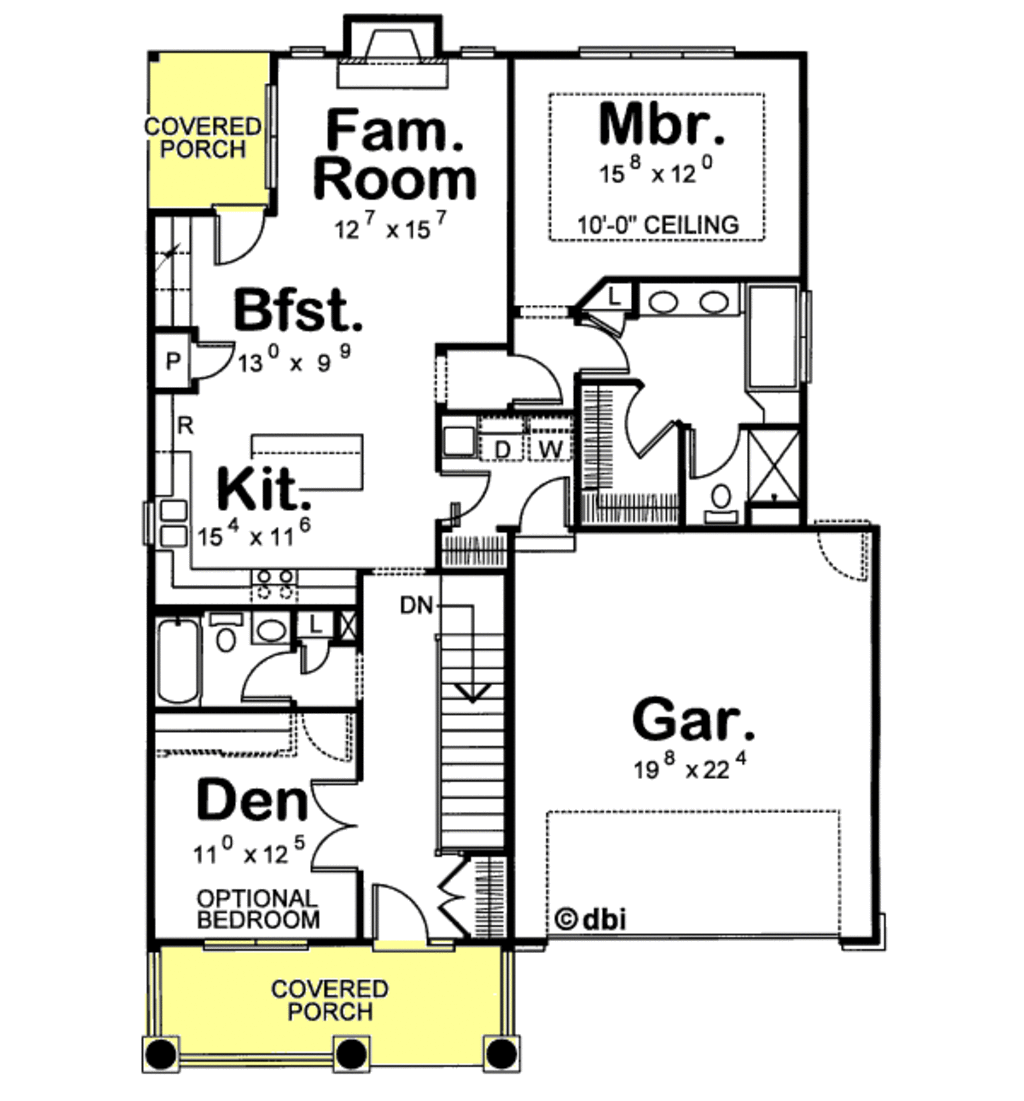door: (308, 774, 366, 874), (203, 191, 276, 267), (354, 883, 441, 944), (810, 512, 880, 583), (288, 698, 361, 764), (617, 374, 669, 457), (432, 856, 488, 932), (524, 478, 576, 554), (505, 342, 559, 410), (675, 430, 746, 481), (571, 320, 634, 376), (242, 647, 305, 703), (436, 471, 493, 530), (190, 329, 232, 379)
large_sink: (703, 484, 742, 525), (210, 612, 247, 654)
small_sink: (636, 281, 741, 313), (249, 612, 303, 644)
stairs: (424, 574, 519, 849)
tub: (747, 288, 797, 388), (159, 620, 205, 705)
twin_sink: (149, 503, 200, 545)
window: (578, 39, 741, 69), (202, 930, 310, 961), (793, 288, 822, 395)
